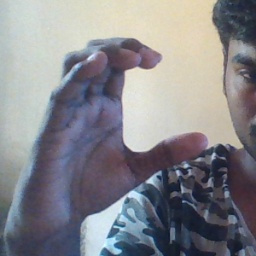C: (83, 30, 215, 180)
